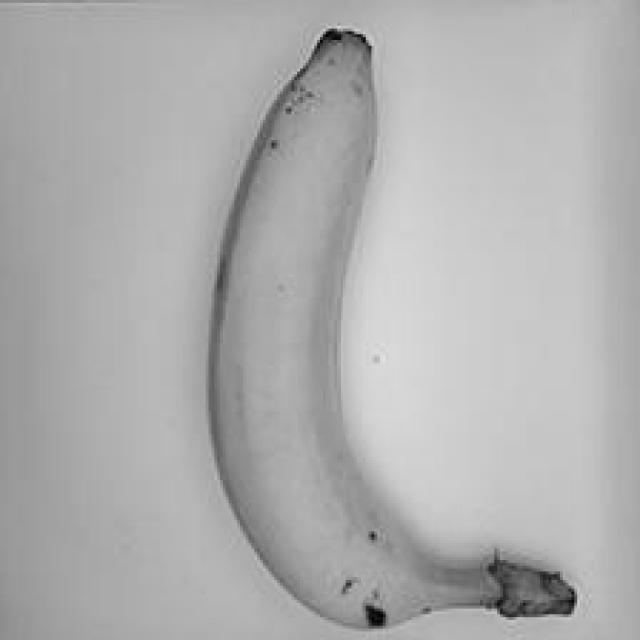Ripe: (203, 27, 586, 640)
